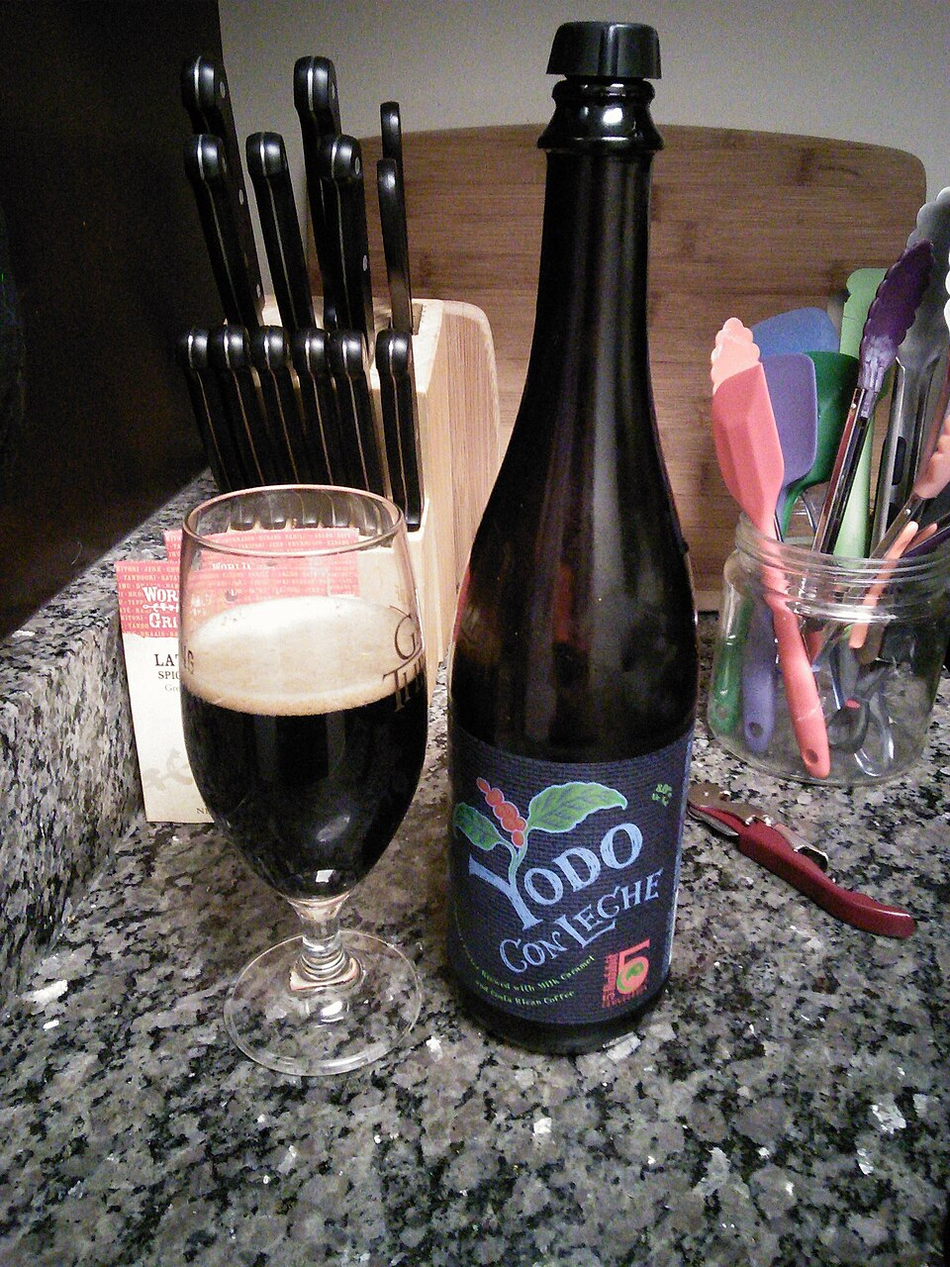beer-bottle: (435, 6, 710, 1091)
